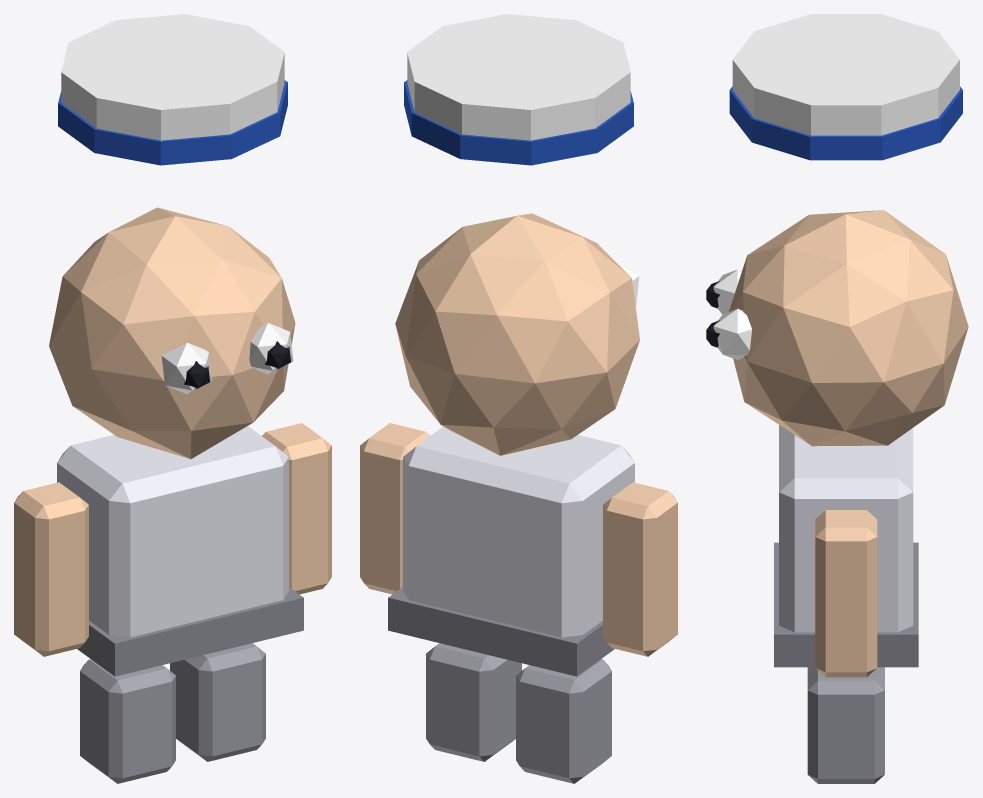
File: AxeCaptain.fbx
The picture shows the model from 3 angles, left to right: view 1: azimuth 30°, elevation 25°; view 2: azimuth 150°, elevation 25°; view 3: azimuth 270°, elevation 25°; orthographic projection.
Parts seen in each view (by area): view 1: AxeCaptain; view 2: AxeCaptain; view 3: AxeCaptain.
Part boxes in pixels (bbox=[...]): AxeCaptain: bbox=[14, 14, 331, 783]; AxeCaptain: bbox=[360, 14, 677, 783]; AxeCaptain: bbox=[706, 14, 968, 783].
Size of the model in its own units: 7.26 by 16.23 by 5.59.
Materials: 1 (1 with a texture image).
